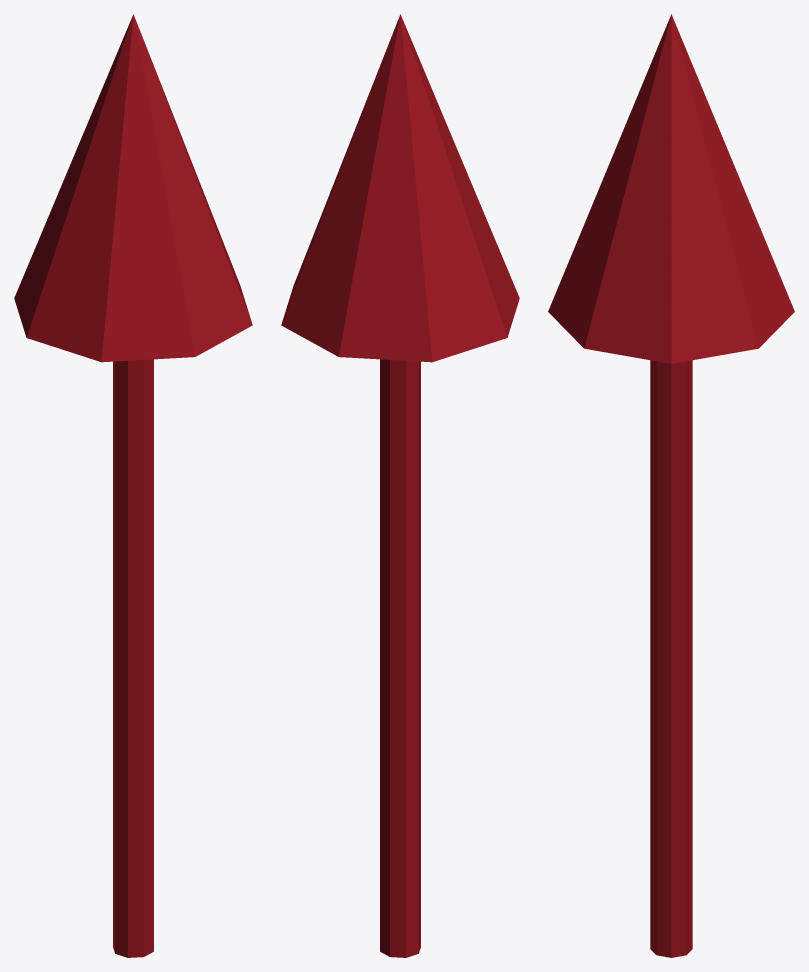
File: arrow-red.gltf
3 views of the same model, side by side, from view 1: azimuth 30°, elevation 25°; view 2: azimuth 150°, elevation 25°; view 3: azimuth 270°, elevation 25° (orthographic).
Visible parts, largest first — view 1: Cylinder; view 2: Cylinder; view 3: Cylinder.
Boxes of the visible parts, <box> form: Cylinder: <box>14,14,252,957</box>; Cylinder: <box>281,14,519,957</box>; Cylinder: <box>548,14,794,957</box>.
Size of the model in its own units: 0.8031 by 3.35 by 0.8031.
